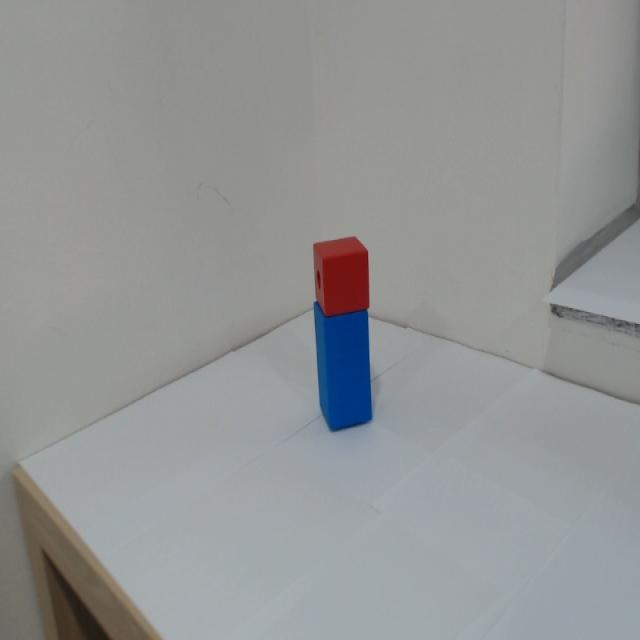cube: (300, 235, 389, 319)
